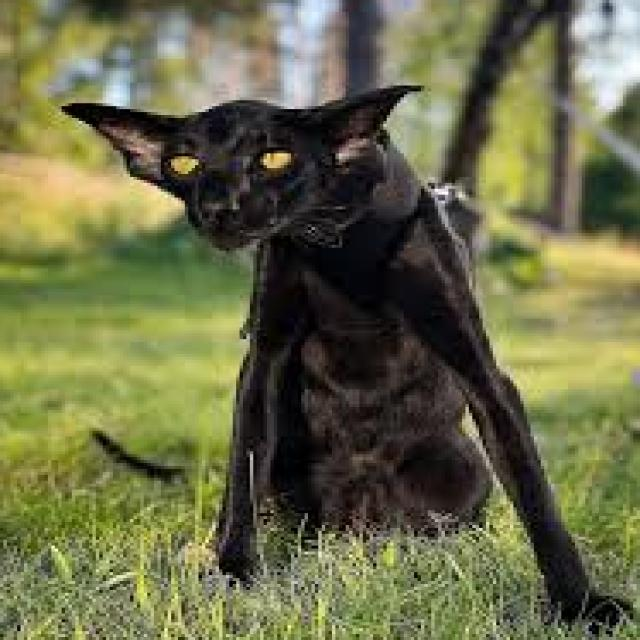Oriental: (56, 81, 640, 638)
